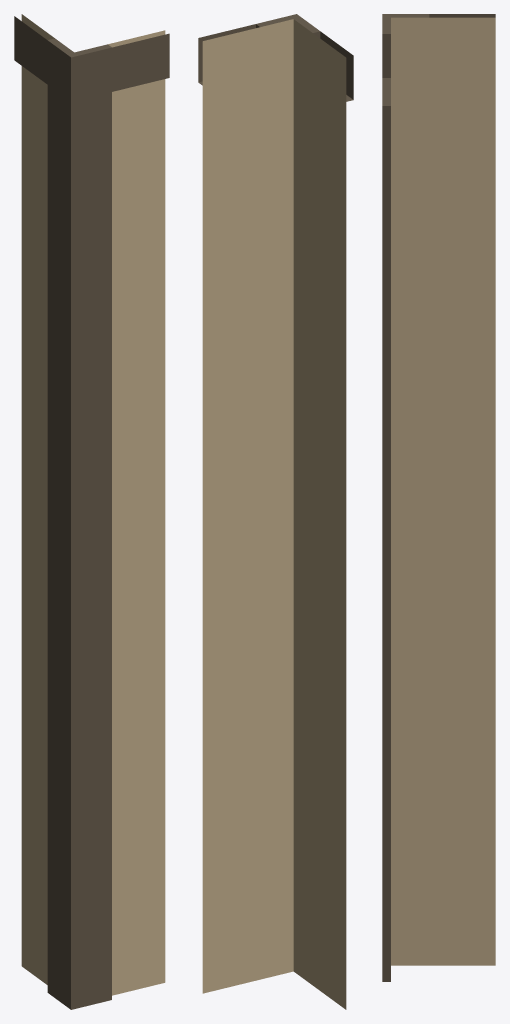
File: mid-c1.fbx
3 renders of one model, left to right at view 1: azimuth 30°, elevation 25°; view 2: azimuth 210°, elevation 25°; view 3: azimuth 270°, elevation 25°, orthographic.
Parts seen in each view (by area): view 1: a2015/0/mid-c1; view 2: a2015/0/mid-c1; view 3: a2015/0/mid-c1.
Part boxes in pixels (<box>): a2015/0/mid-c1: <box>14,14,169,1009</box>; a2015/0/mid-c1: <box>198,14,353,1009</box>; a2015/0/mid-c1: <box>382,14,495,981</box>.
Bounding box in the file's own units: 0.325 × 3 × 0.325.
